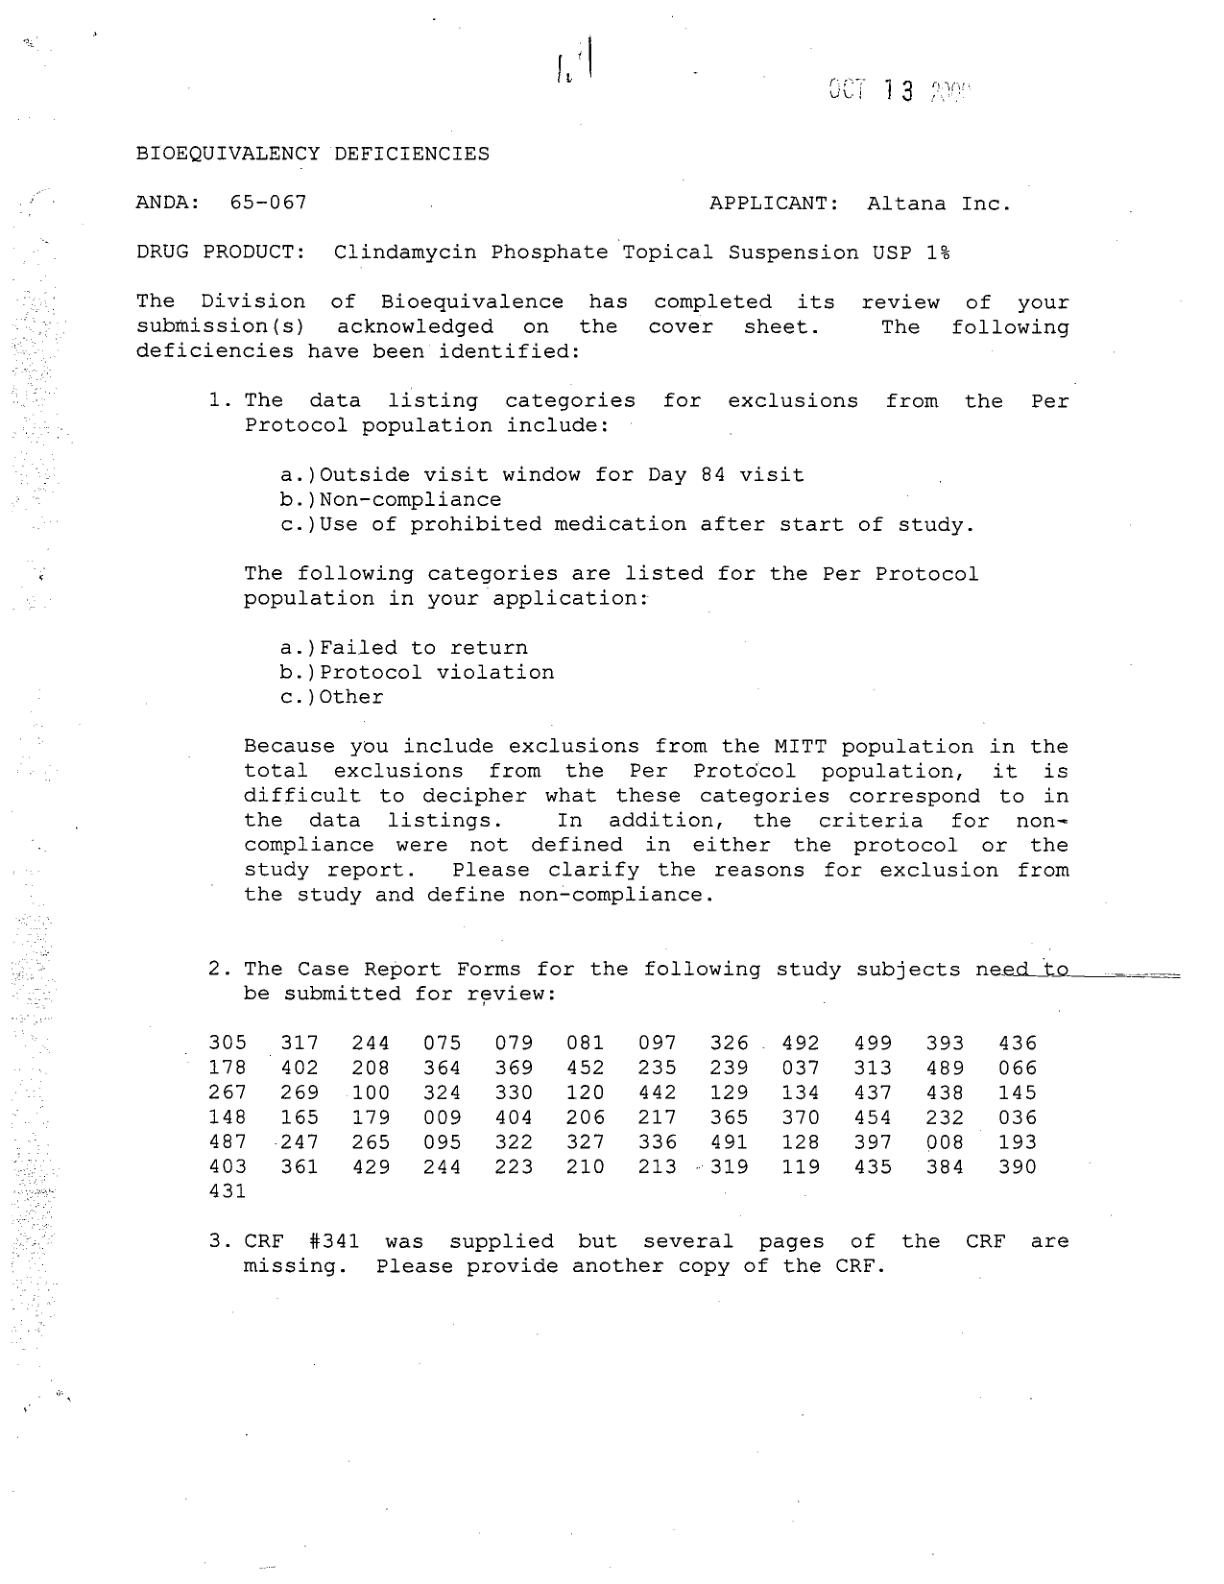nolines: (204, 1027, 1044, 1206)
